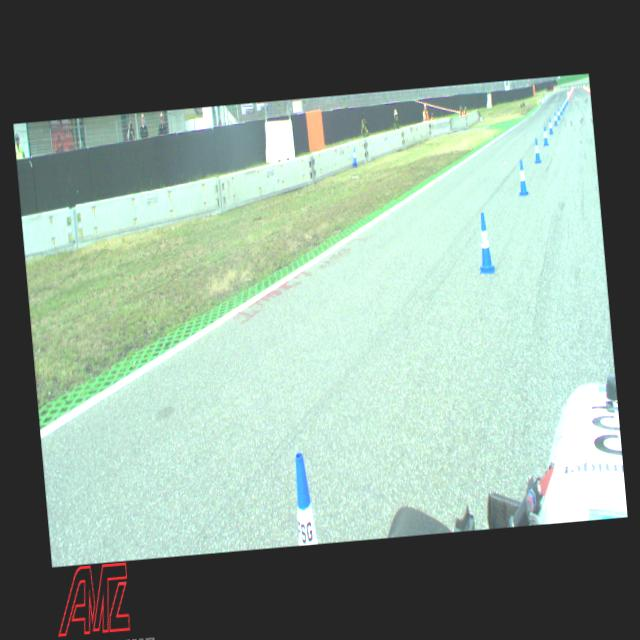blue_cone: (291, 450, 318, 545), (474, 212, 495, 274), (516, 159, 530, 195), (532, 138, 542, 162), (542, 126, 548, 146), (552, 112, 558, 126), (548, 118, 552, 134), (556, 107, 560, 120), (559, 104, 562, 115), (562, 102, 564, 111)
